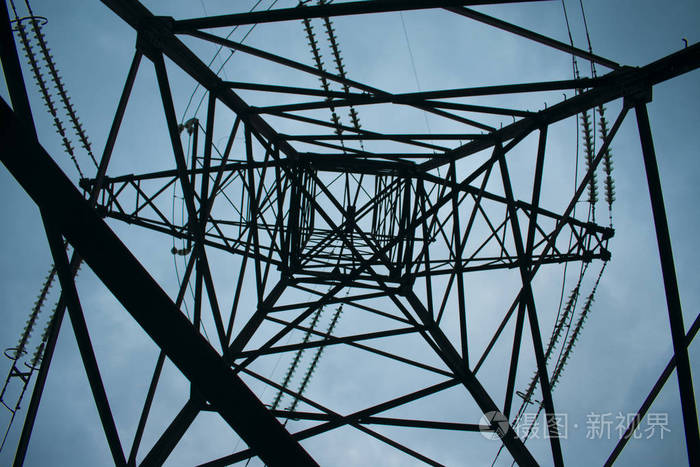insulator: (18, 16, 93, 155), (525, 289, 595, 406), (303, 5, 359, 137), (272, 305, 342, 410), (14, 261, 58, 363), (577, 104, 616, 207)
